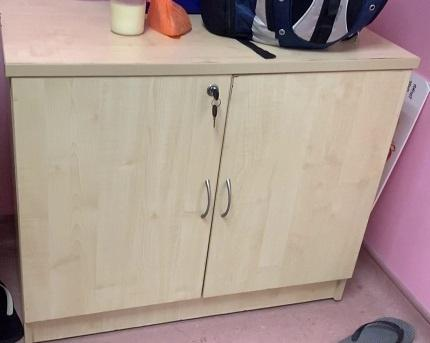cabinet_door: (18, 73, 218, 310), (219, 74, 374, 286)
handle: (221, 177, 233, 221), (200, 178, 212, 220)
